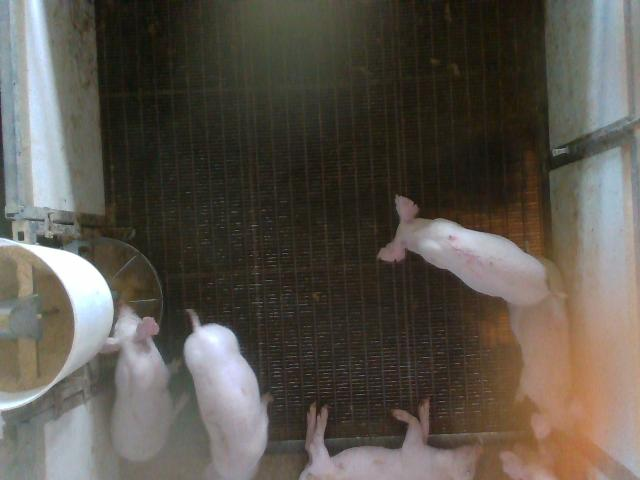pig-3: (184, 310, 272, 479)
pig-4: (509, 259, 571, 441)
pig-5: (380, 196, 550, 306)
